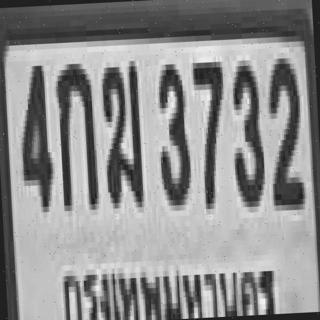A01: (53, 58, 97, 206)
A06: (99, 55, 142, 204)
N02: (264, 52, 303, 206)
N03: (228, 54, 264, 202), (154, 58, 190, 201)
N04: (16, 60, 53, 208)
N07: (191, 56, 227, 205)
